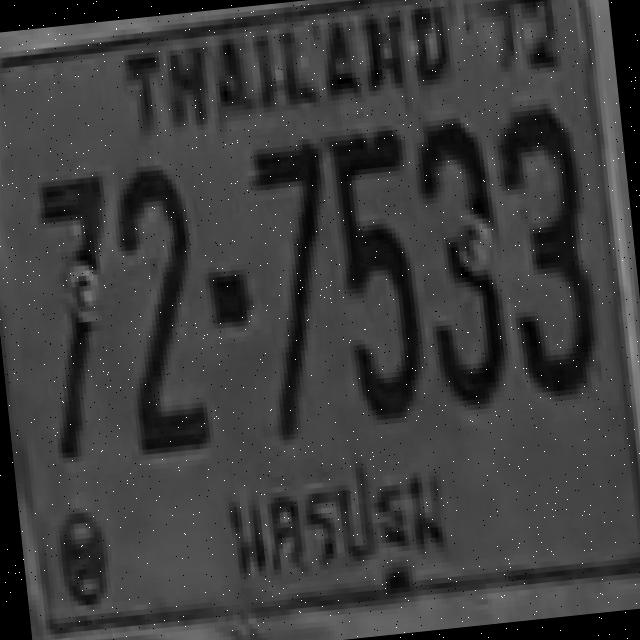2: (107, 160, 206, 427)
3: (489, 101, 599, 394), (411, 113, 508, 405)
5: (326, 126, 428, 420), (326, 126, 418, 328)
7: (244, 140, 347, 438), (30, 171, 126, 453), (248, 138, 344, 405), (248, 138, 340, 369), (248, 138, 337, 344), (33, 171, 119, 382), (33, 171, 117, 361), (248, 138, 334, 318), (248, 138, 332, 298)
NakhonPathom: (217, 454, 458, 614)
